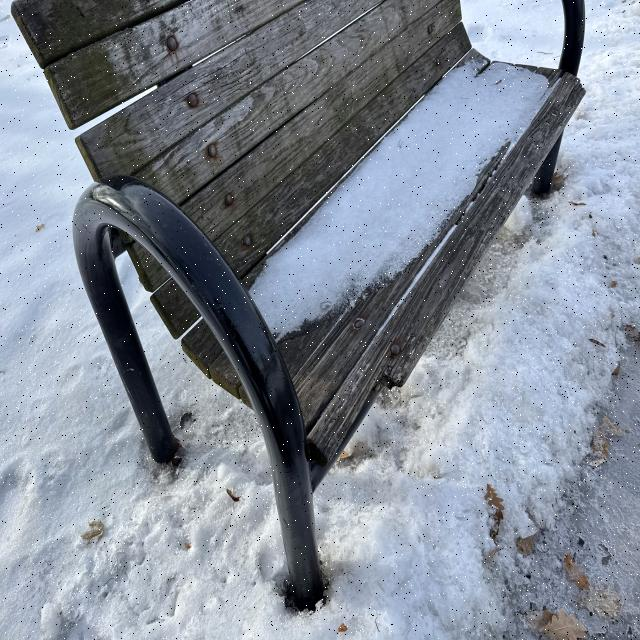Bench: (16, 0, 587, 576)
